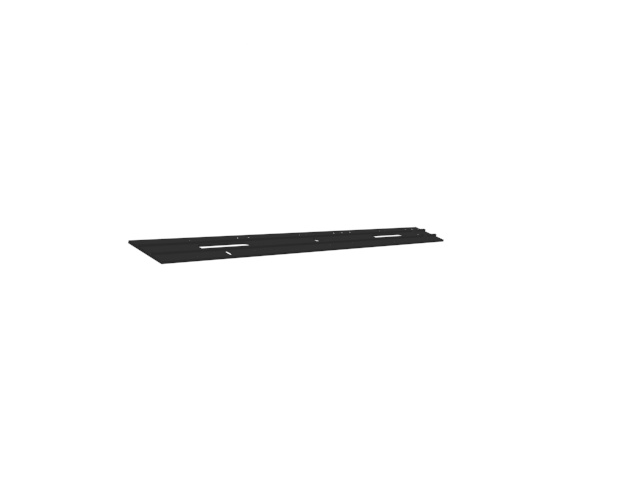ruler: (127, 225, 448, 272)
